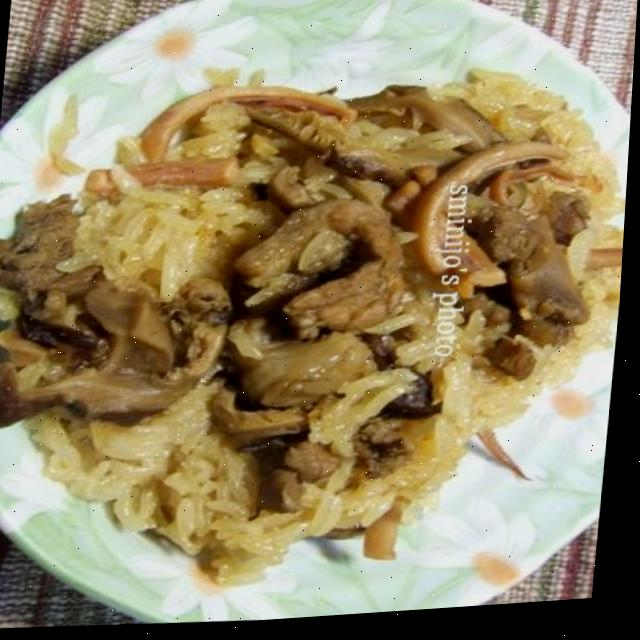米饭主食: (0, 1, 638, 629)
